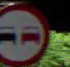No overtake: (0, 3, 51, 66)
